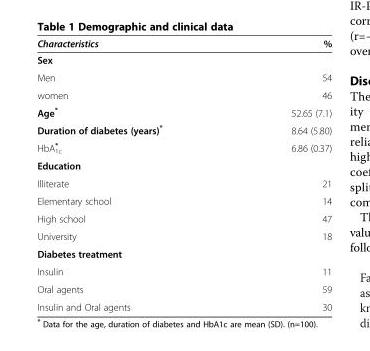table: (36, 37, 331, 312)
table column: (36, 37, 226, 312), (226, 37, 331, 312)
table column header: (36, 37, 331, 51)
table projected row header: (36, 156, 331, 174), (36, 244, 331, 262), (36, 51, 331, 68)
table row: (36, 68, 331, 86), (36, 102, 331, 120), (36, 120, 331, 138), (36, 138, 331, 156), (36, 156, 331, 174), (36, 191, 331, 209), (36, 209, 331, 227), (36, 244, 331, 262), (36, 262, 331, 280), (36, 51, 331, 68), (36, 174, 331, 191), (36, 227, 331, 244), (36, 280, 331, 297), (36, 86, 331, 102), (36, 297, 331, 312), (36, 37, 331, 51)
